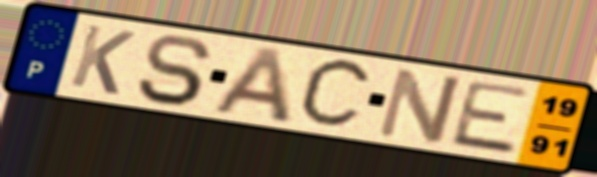A: (207, 44, 295, 126)
C: (293, 56, 377, 132)
E: (446, 78, 536, 157)
K: (66, 21, 140, 98)
N: (372, 64, 466, 146)
S: (133, 33, 217, 108)
